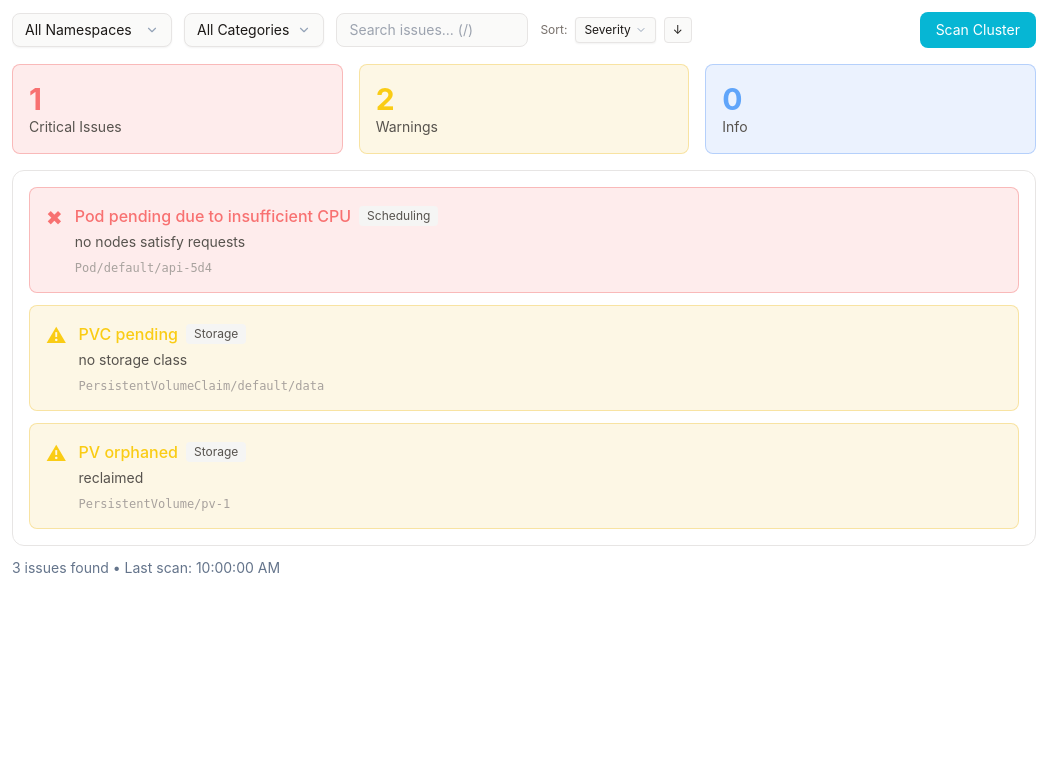
AnalyzerView › clicking an issue expands its fix suggestions
This screenshot has width=1048, height=780.
Step 1. Click the text "Pod pending due to insufficient CPU" → (213, 216), box left=75, top=204, right=351, bottom=228
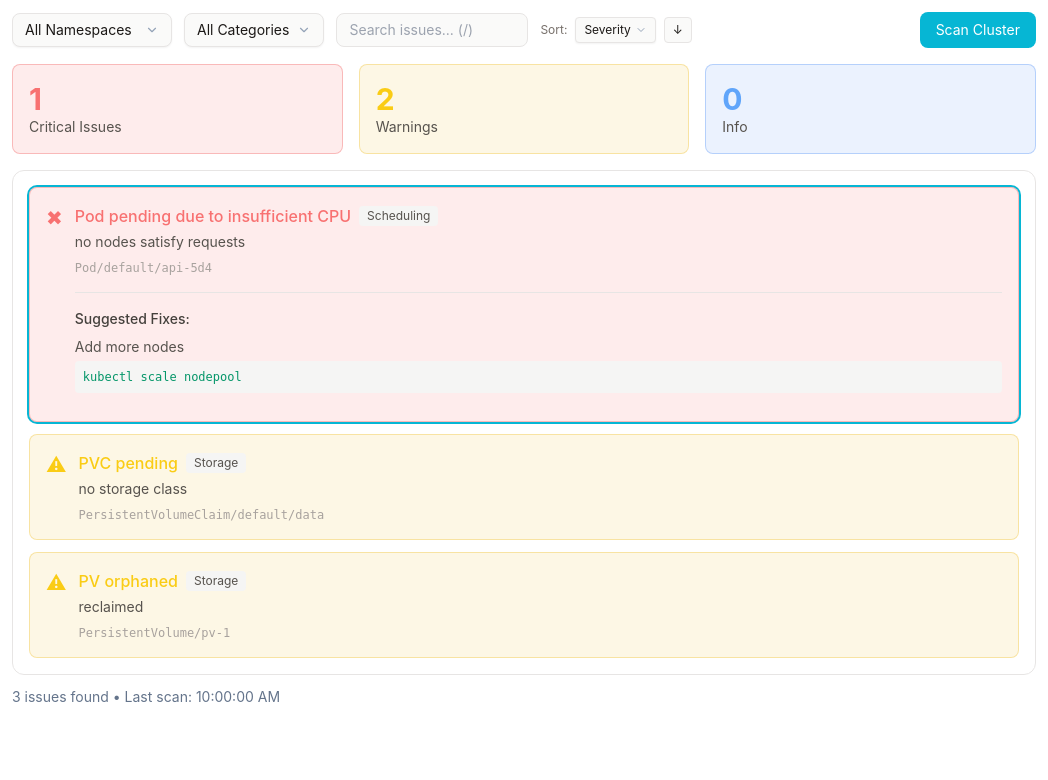
Expected: the text "Suggested Fixes:" is shown, left=75, top=310, right=190, bottom=327
Expected: the text "Add more nodes" is shown, left=75, top=338, right=184, bottom=355
